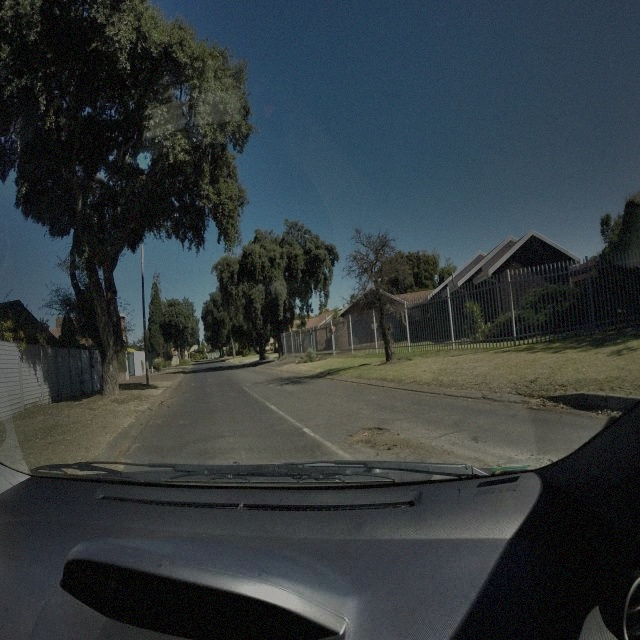pothole: (346, 424, 392, 447)
